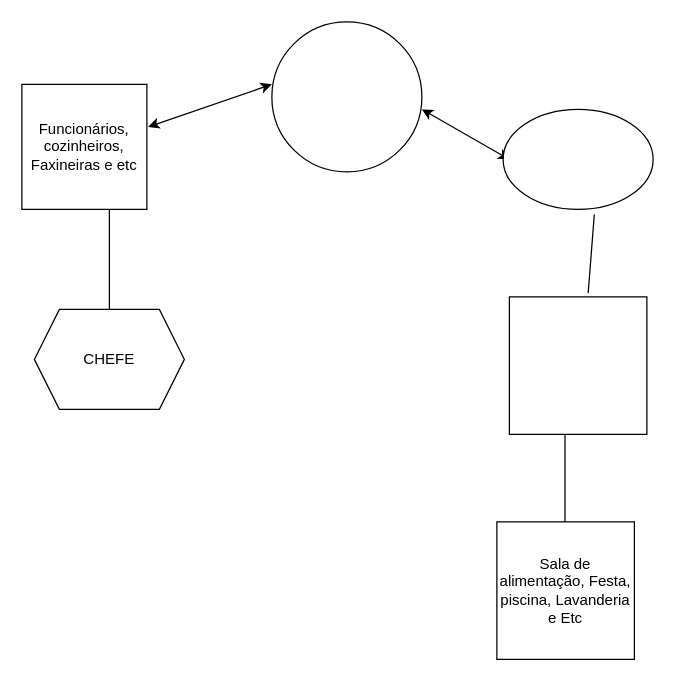
This 675x681 diagram has some shape labels left out. The shapes that lost their labels are listed below. From the top down, each one's box as (x1, y1, x2, y2) in pixels, then its label:
(271, 21, 422, 172): HOTEL
(508, 296, 647, 434): Quartos, Banheiros, telefone de reserva
